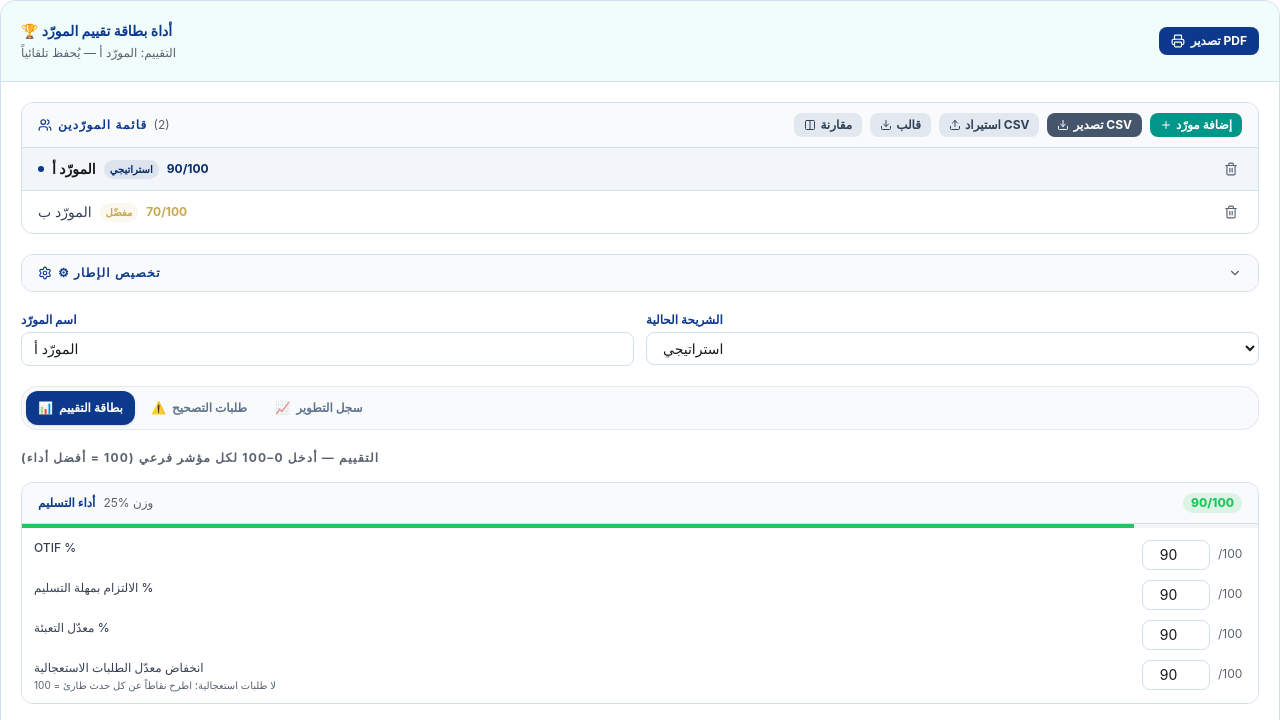
Scenario: Compare view — Arabic dimension labels › renders every Arabic dimension label in the comparison table
Step 1. Click the button "مقارنة" → x=828, y=125, box [794,113,862,137]
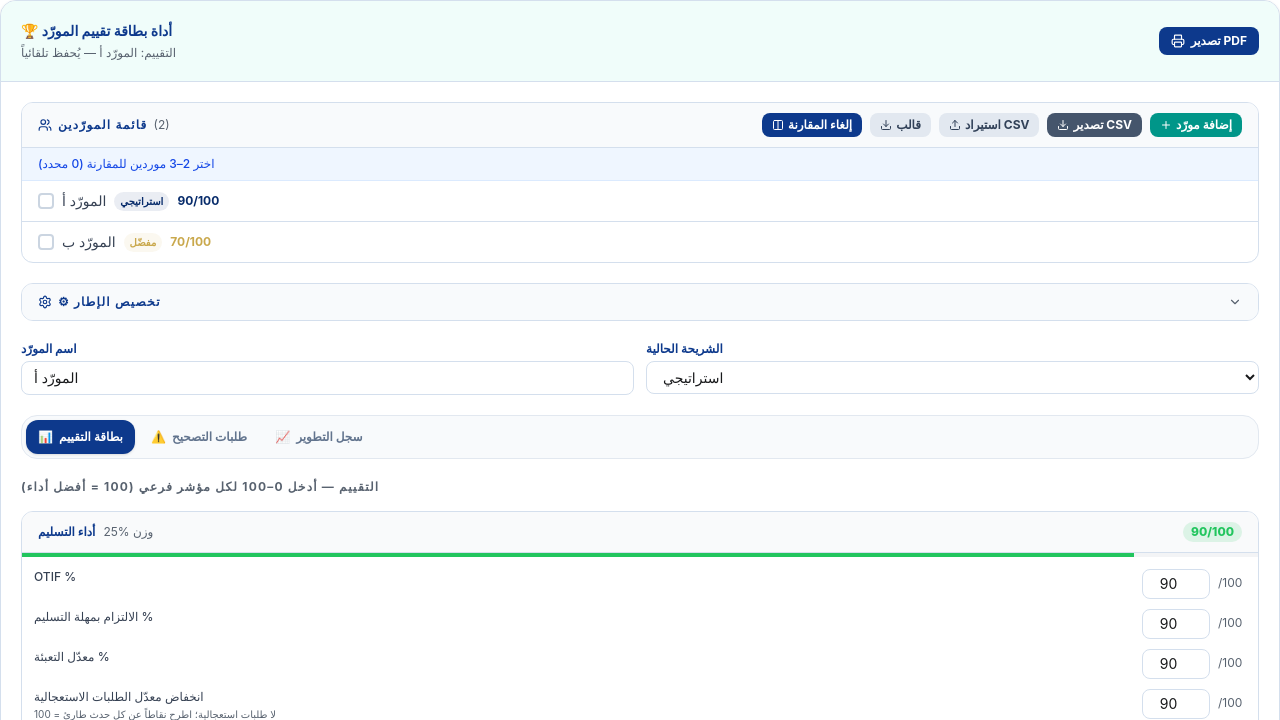
Step 2. Click the text "المورّد أ" → x=84, y=201, box [62,191,106,211]
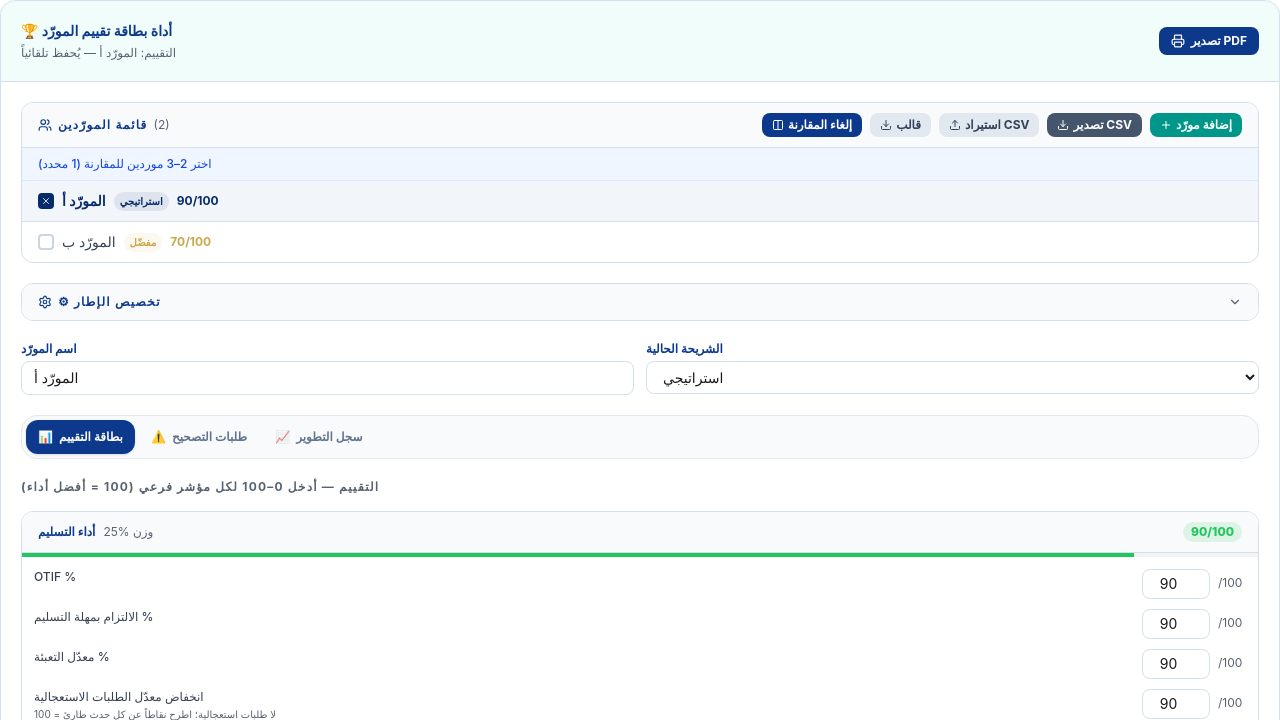
Step 3. Click the text "المورّد ب" → x=89, y=242, box [62,232,116,252]
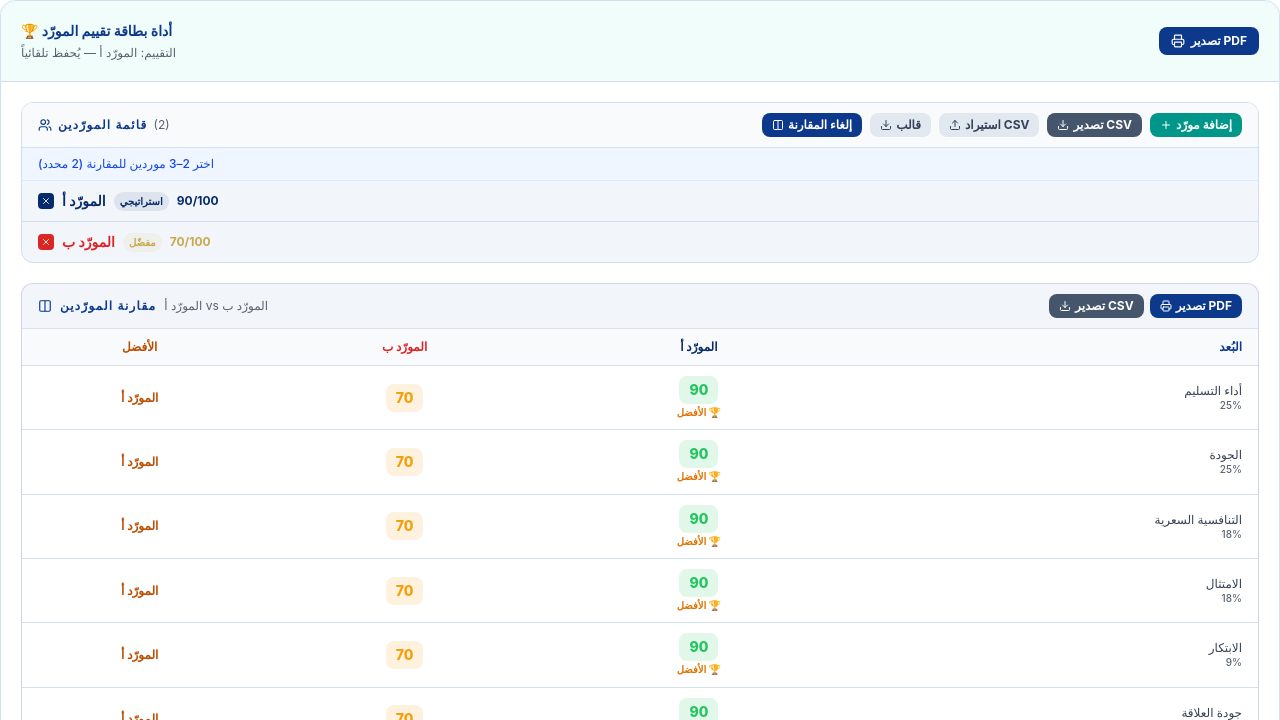
Now the text "أداء التسليم" is shown, box [1184,383,1242,398]
Now the text "الجودة" is shown, box [1209,447,1242,462]
Now the text "التنافسية السعرية" is shown, box [1154,512,1242,527]
